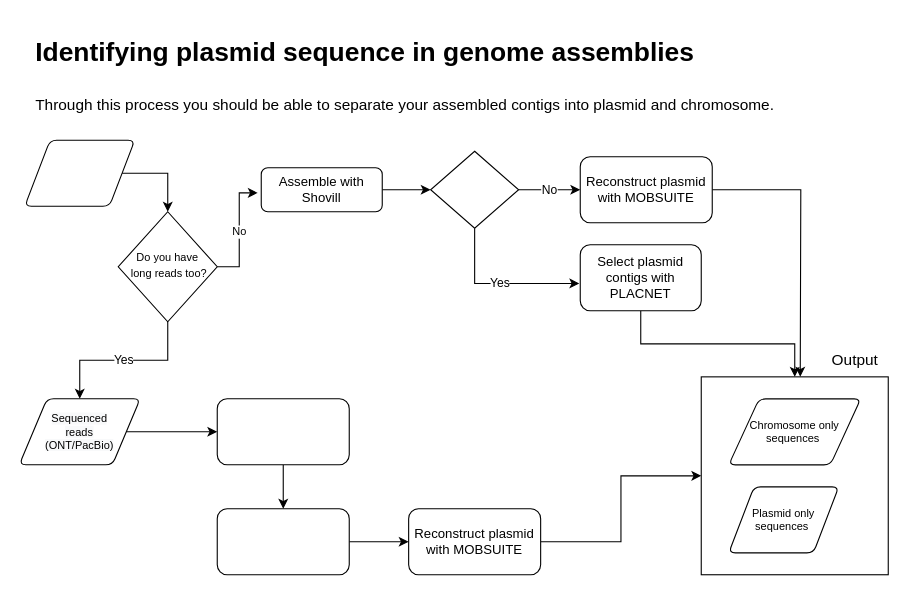
This 908x594 diagram has some shape labels left out. The centre of each missing label's shape, as x and y in pixels:
Graphical approach?: point 474,189
Hybrid assembly with Unicycler: point 282,541
Replicon typing with tiptoft: point 282,431
Sequenced reads (Illumina): point 79,172
